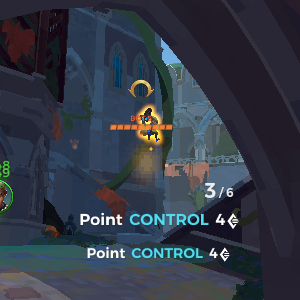model: (137, 105, 165, 149)
